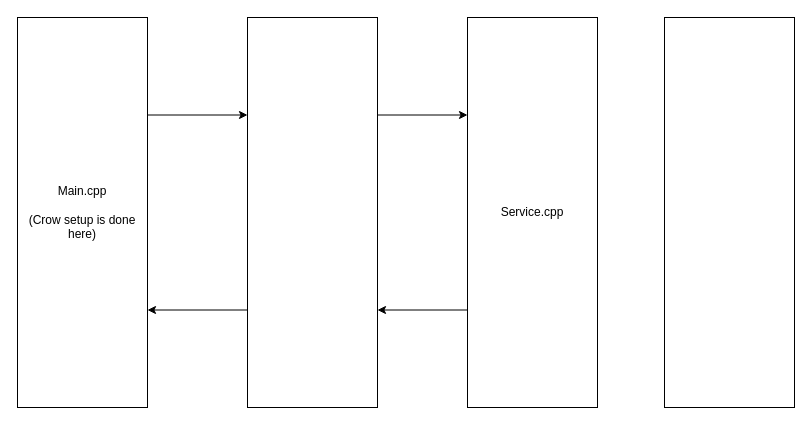
Image size: 812x425. Some labels were removed from this diagram. Here are the shapes that lost their labels. From the top down, the box of each, then its label:
(246, 16, 378, 408): Handlers.cpp
(664, 16, 794, 408): Repository.cpp
